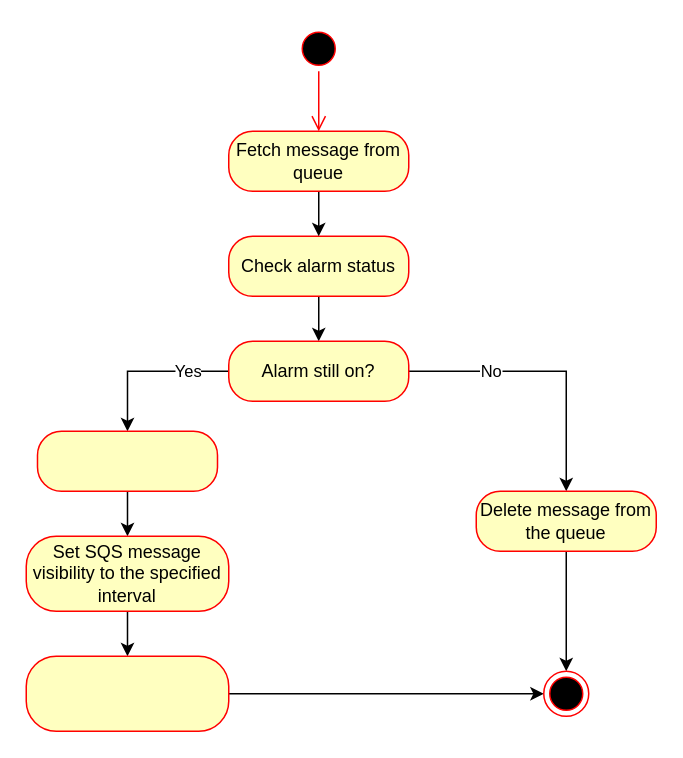
Image size: 683x758. Some labels were removed from this diagram. The box of each missing label's shape, as (x1, y1, x2, y2) in pixels:
Send event to SNS: (36, 430, 218, 491)
Throw an exception: (25, 655, 229, 731)
